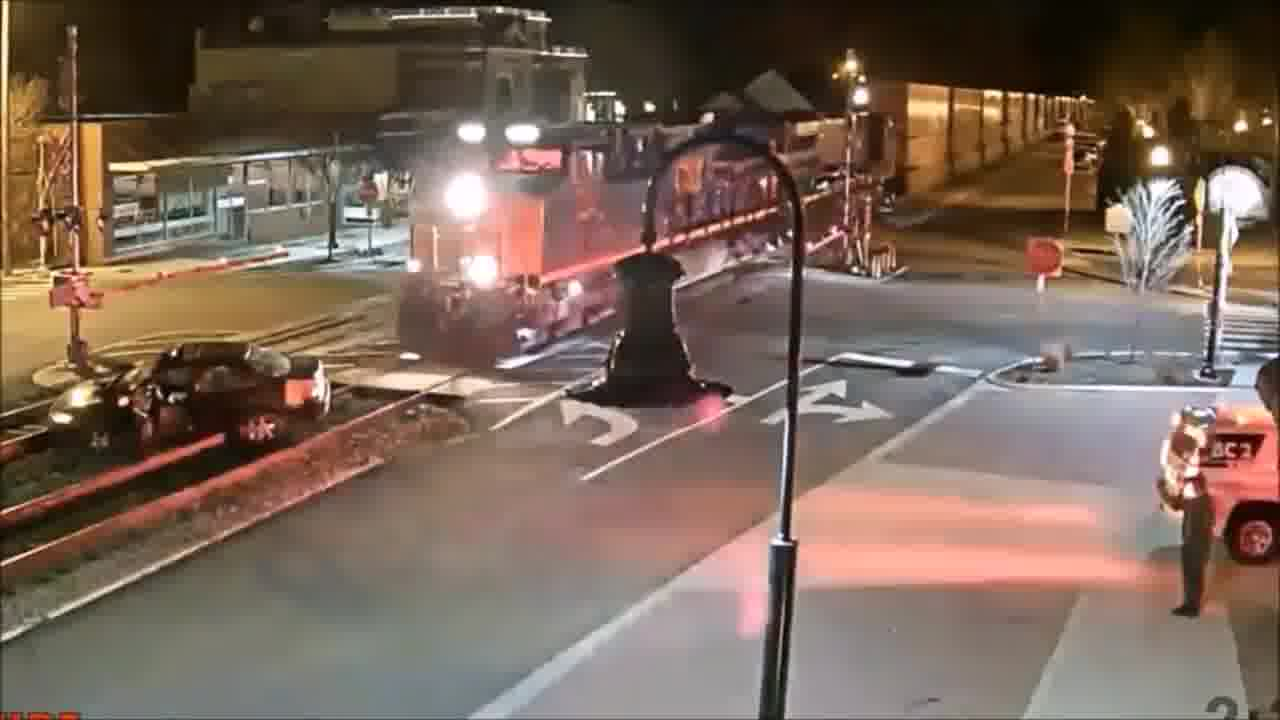crossing railway track: (42, 340, 334, 468)
